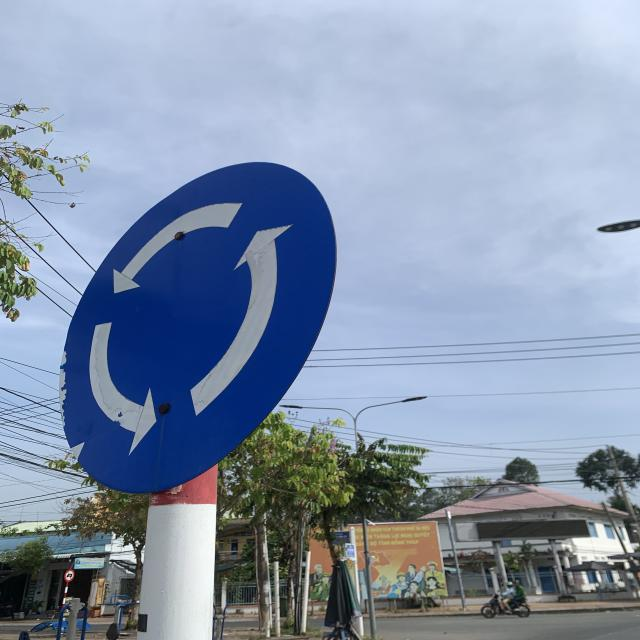Xe_Bus: (62, 164, 338, 492)
